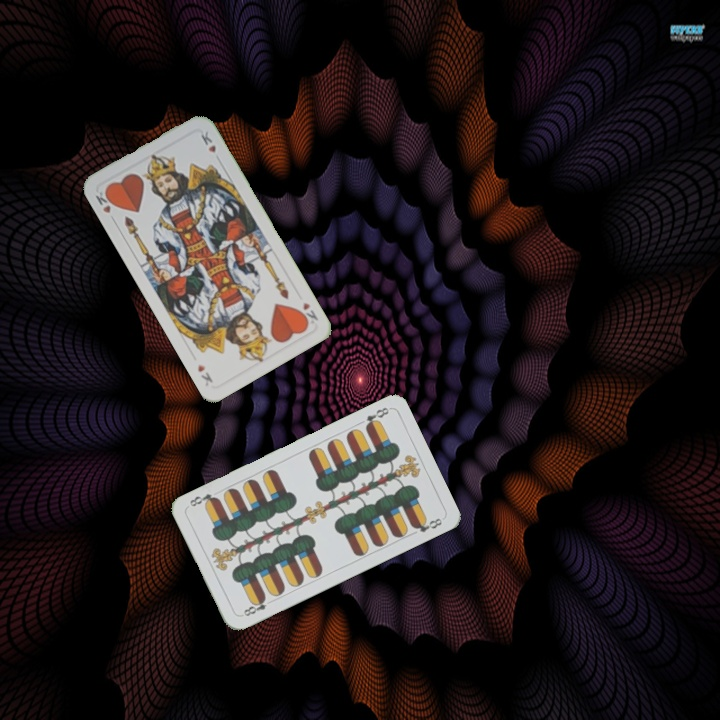E8: (361, 403, 392, 432), (237, 593, 269, 619)
HK: (91, 186, 119, 216), (295, 298, 321, 328)
